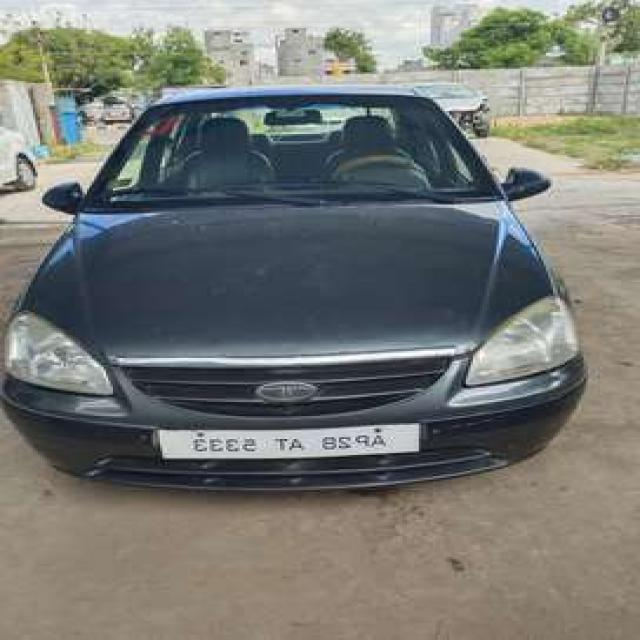license_plate: (152, 414, 426, 468)
